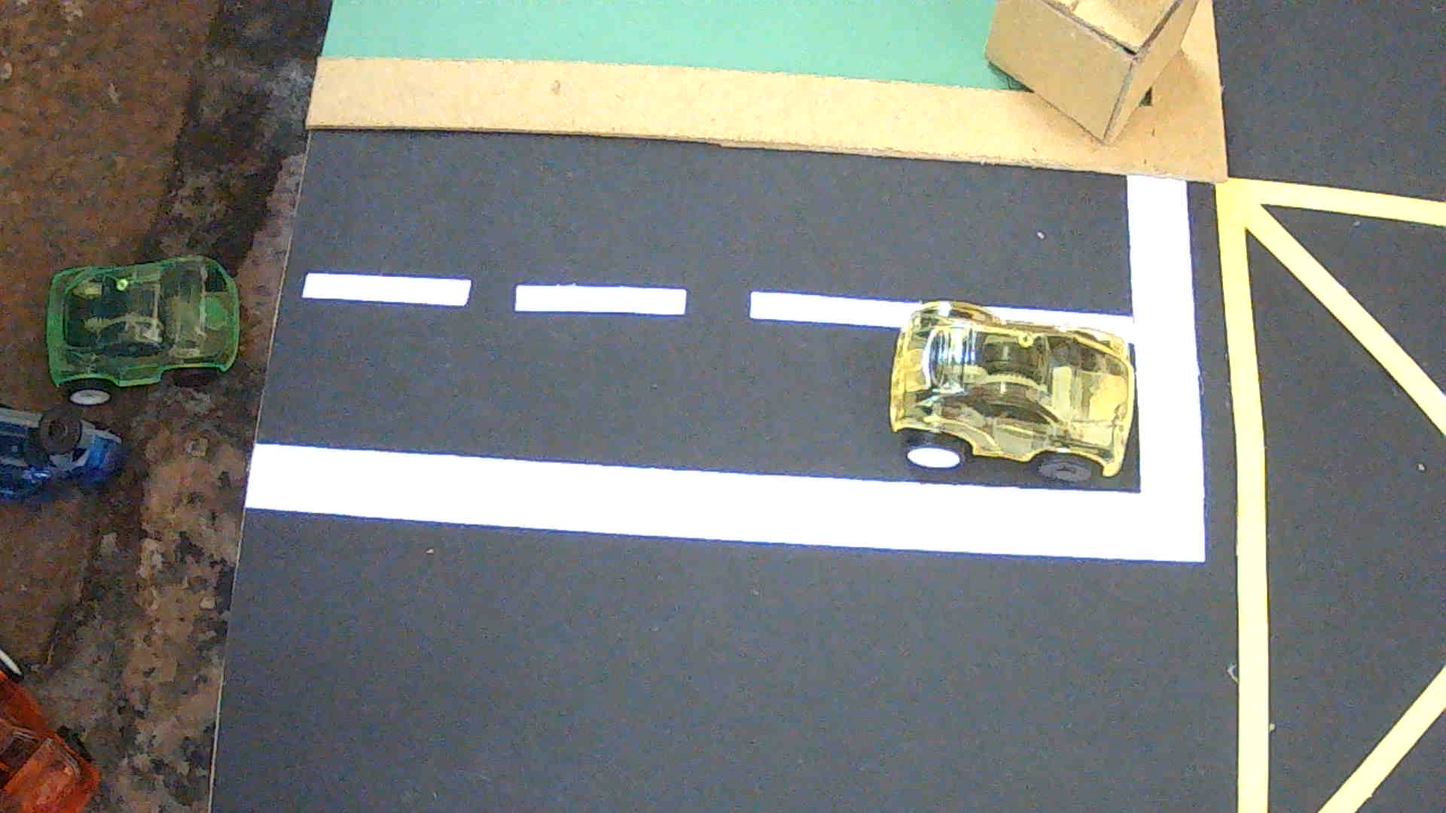Mobil kuning: (889, 300, 1134, 483)
